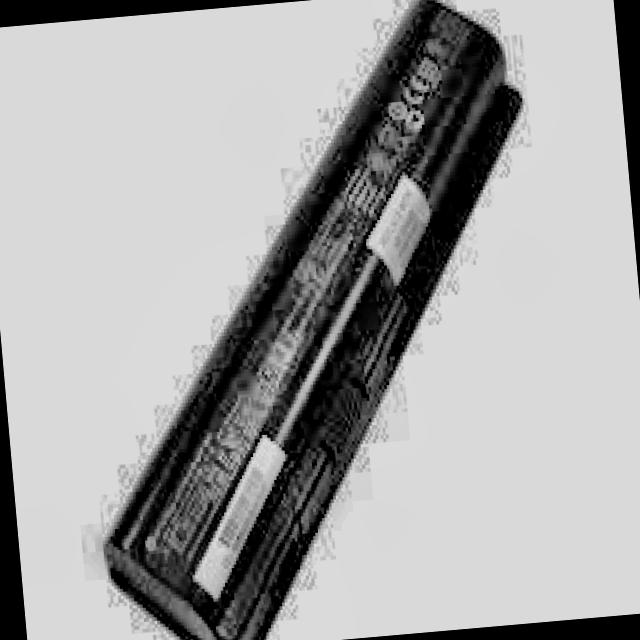Battery: (36, 0, 575, 640)
